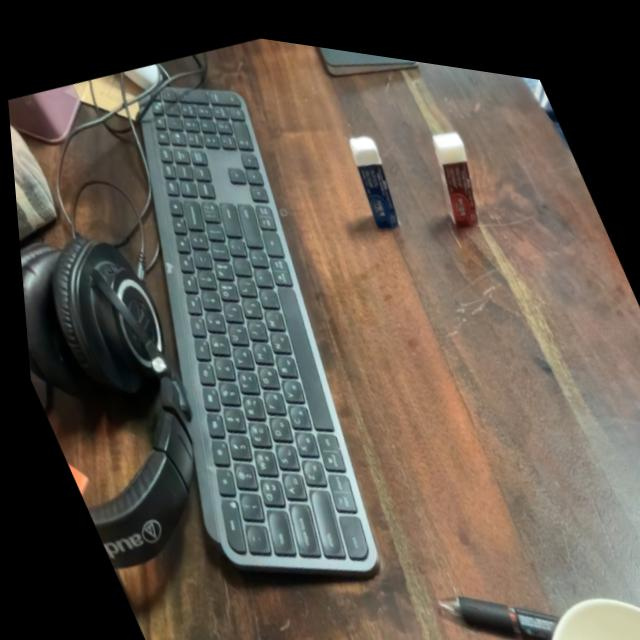blue: (332, 109, 413, 232)
red: (411, 103, 502, 228)
